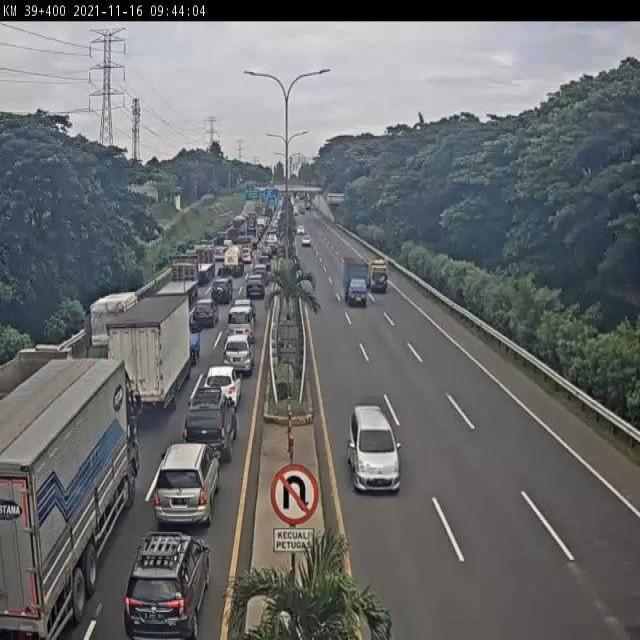car: (125, 526, 213, 638), (345, 407, 410, 508), (153, 437, 223, 524), (179, 387, 235, 457), (202, 360, 245, 412), (221, 329, 259, 375), (225, 300, 253, 343), (192, 294, 219, 329), (209, 276, 236, 300), (248, 268, 268, 300)
small truck: (368, 253, 393, 300)
truck-l-: (0, 360, 143, 640), (156, 259, 197, 305), (189, 246, 218, 286)
truck-m-: (108, 295, 198, 409), (88, 288, 141, 357), (341, 253, 369, 316)
